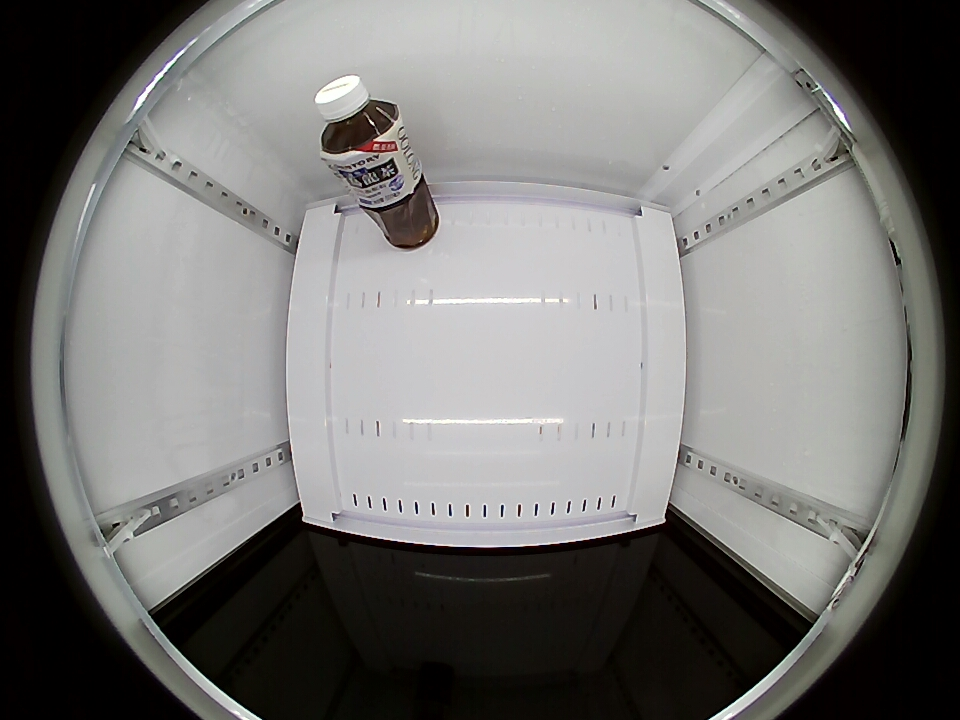wulongcha: (315, 73, 403, 163)
